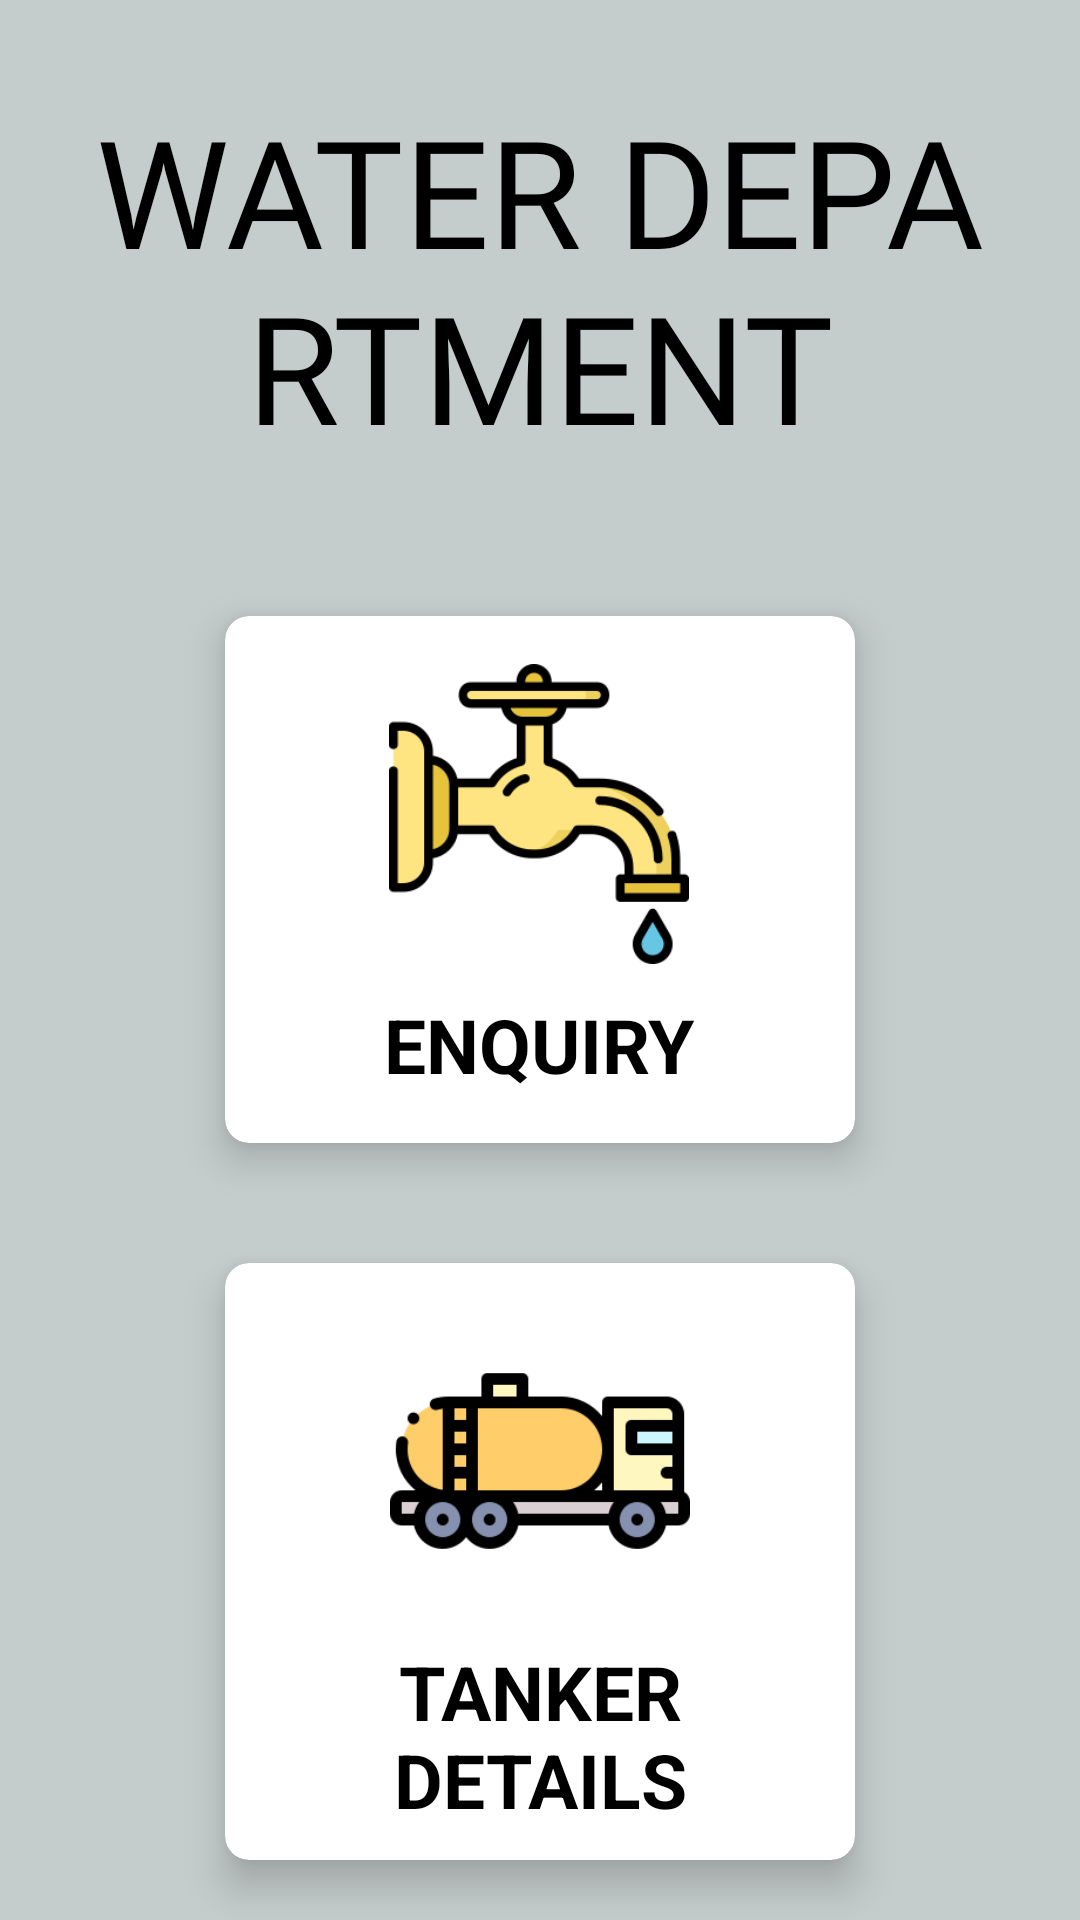

Where to tap for icons on this 1080x1920 app screen, as [x,y]:
water tank: [540,1461]
water tap: [539,814]
